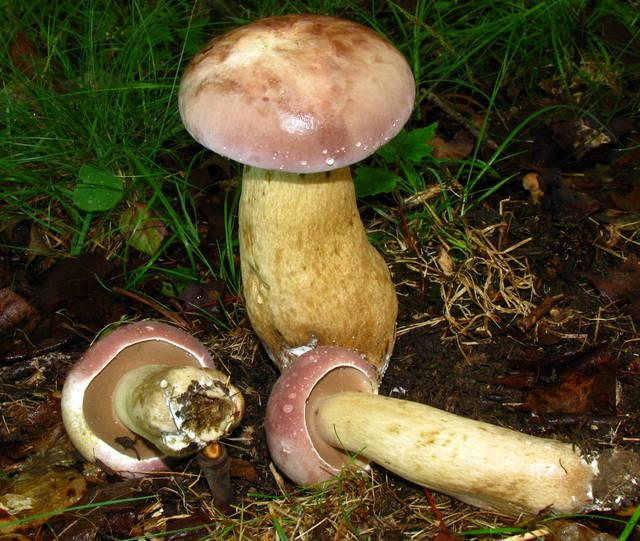Non-edible Mushroom: (176, 12, 417, 380), (267, 352, 611, 531), (59, 318, 245, 508)
